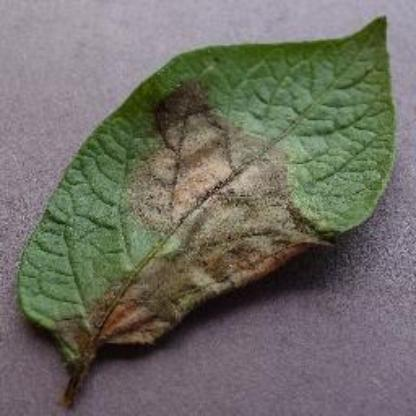Late-Blight: (8, 11, 404, 401)
